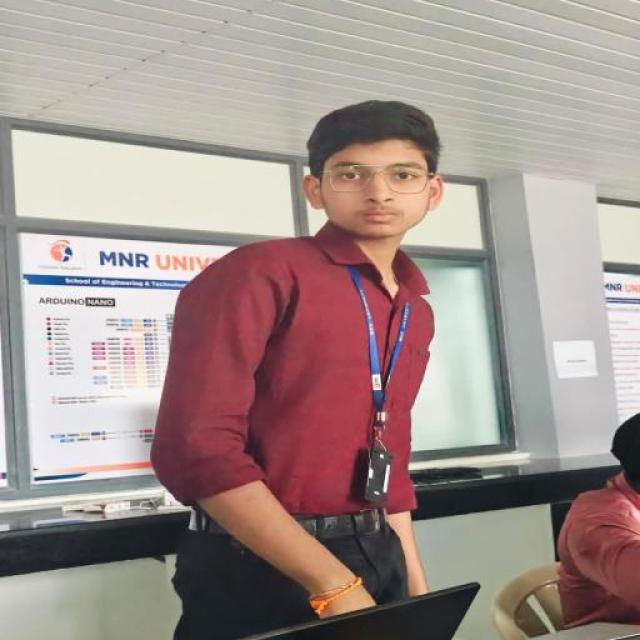Card: (364, 445, 392, 503)
Id strap: (348, 265, 409, 412)
